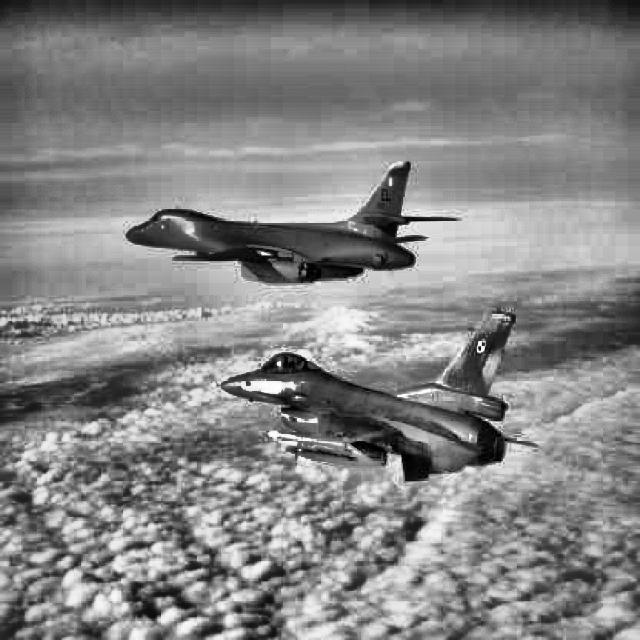B1: (126, 160, 460, 285)
F16: (211, 308, 538, 482)
